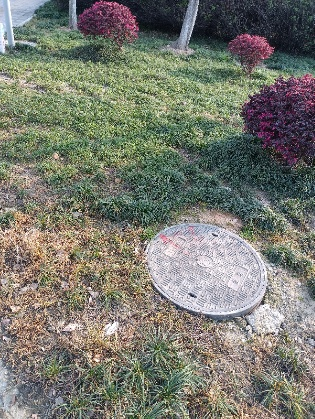well: (145, 221, 269, 316)
